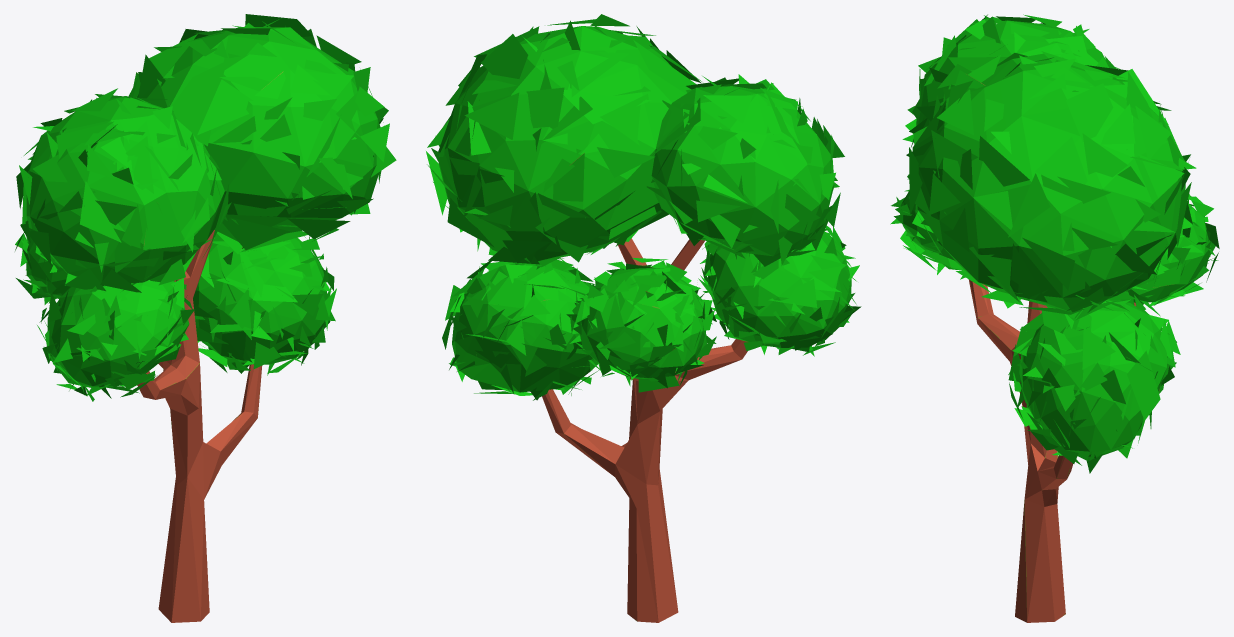
3 views of the same model, side by side, from view 1: azimuth 30°, elevation 25°; view 2: azimuth 150°, elevation 25°; view 3: azimuth 270°, elevation 25° (orthographic). The views are drawn at different scales.
Visible parts, largest first — view 1: tree.003; view 2: tree.003; view 3: tree.003.
Part boxes in pixels (x1,y1,x2,y2): tree.003: (15,14,396,622); tree.003: (426,14,861,622); tree.003: (890,14,1219,622).
Size of the model in its own units: 6.13 by 9.1 by 4.6.
1 material, 1 textured.
